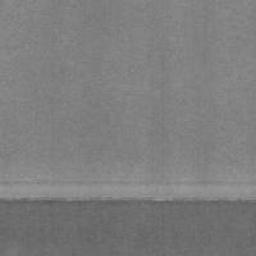Welding line: (0, 196, 256, 207)
